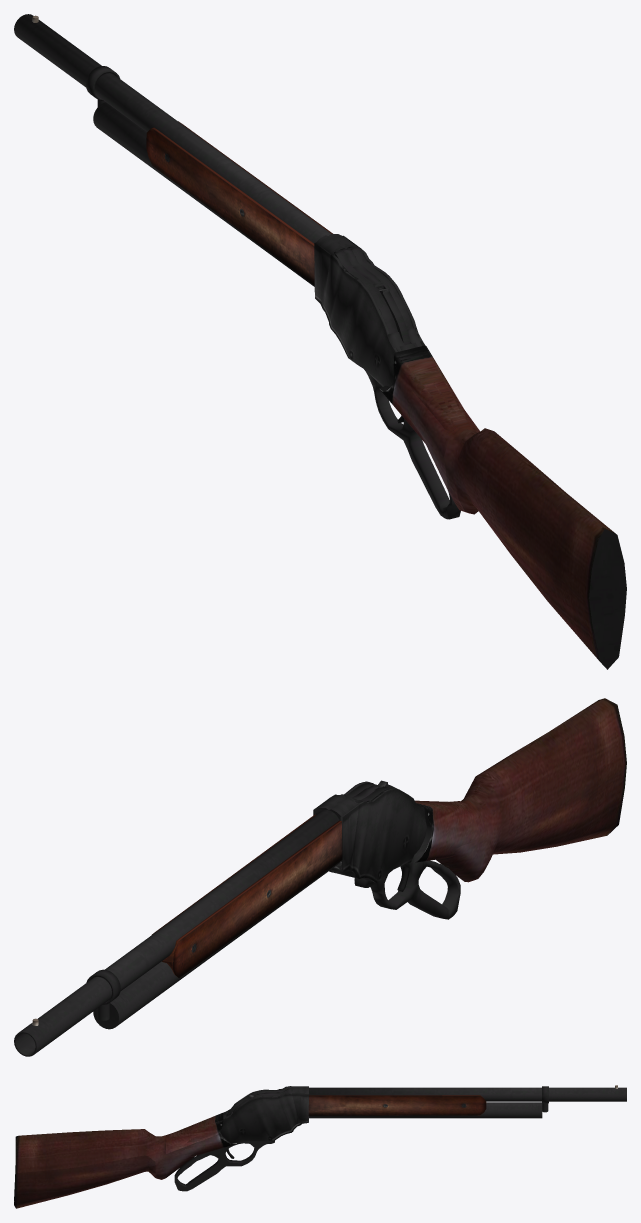
File: 1887_world.fbx
3 views of the same model, one above another, from view 1: azimuth 30°, elevation 25°; view 2: azimuth 150°, elevation 25°; view 3: azimuth 270°, elevation 25° (orthographic). The views are drawn at different scales.
Parts seen in each view (by area): view 1: 1887_stock, 1887_barrel, 1887_body, 1887_grip, 1887_lever, 1887_magazine, 1887_back; view 2: 1887_stock, 1887_barrel, 1887_grip, 1887_body, 1887_lever, 1887_magazine, 1887_barrelholder, 1887_back; view 3: 1887_stock, 1887_grip, 1887_barrel, 1887_body, 1887_magazine, 1887_lever, 1887_back.
Boxes of the visible parts, x1=… form: 1887_stock: x1=379, y1=345, x2=626, y2=669; 1887_barrel: x1=14, y1=14, x2=331, y2=243; 1887_body: x1=314, y1=234, x2=431, y2=386; 1887_grip: x1=146, y1=121, x2=332, y2=285; 1887_lever: x1=364, y1=369, x2=460, y2=519; 1887_magazine: x1=93, y1=102, x2=314, y2=286; 1887_back: x1=334, y1=246, x2=412, y2=333; 1887_stock: x1=411, y1=698, x2=626, y2=882; 1887_barrel: x1=14, y1=810, x2=339, y2=1056; 1887_grip: x1=152, y1=814, x2=342, y2=977; 1887_body: x1=313, y1=781, x2=426, y2=882; 1887_lever: x1=354, y1=860, x2=460, y2=919; 1887_magazine: x1=93, y1=862, x2=339, y2=1029; 1887_barrelholder: x1=86, y1=969, x2=120, y2=1020; 1887_back: x1=333, y1=783, x2=390, y2=802; 1887_stock: x1=14, y1=1113, x2=236, y2=1208; 1887_grip: x1=308, y1=1095, x2=486, y2=1115; 1887_barrel: x1=309, y1=1087, x2=626, y2=1101; 1887_body: x1=218, y1=1086, x2=308, y2=1143; 1887_magazine: x1=309, y1=1102, x2=542, y2=1118; 1887_lever: x1=174, y1=1140, x2=274, y2=1191; 1887_back: x1=233, y1=1086, x2=291, y2=1112.
Bounding box in the file's own units: 2.66 × 14.47 × 65.36.
